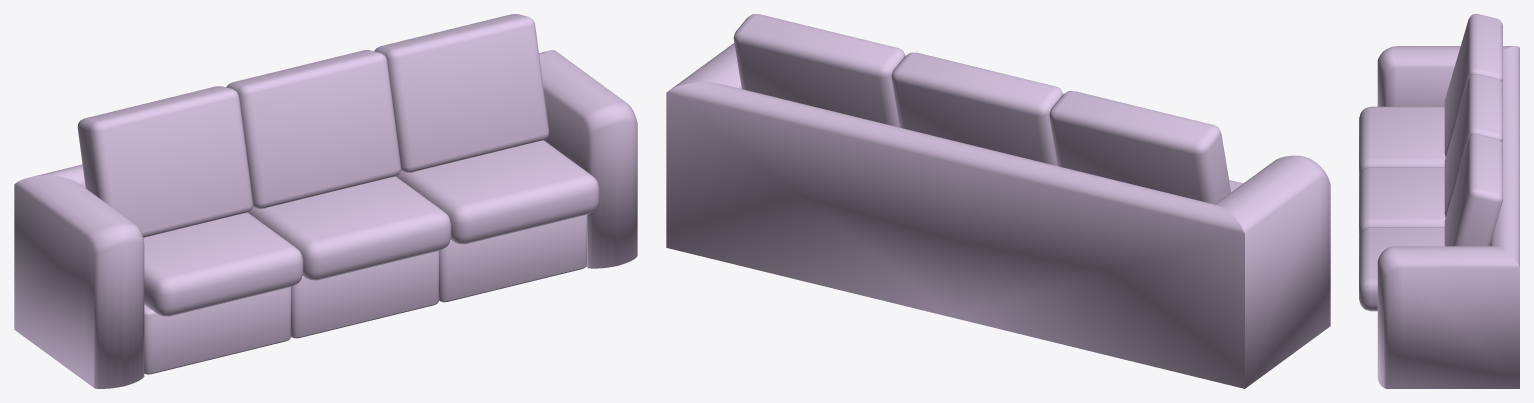
The model's file is sofa2.glb.
The picture shows the model from 3 angles, left to right: view 1: azimuth 30°, elevation 25°; view 2: azimuth 150°, elevation 25°; view 3: azimuth 270°, elevation 25°; orthographic projection. The views are drawn at different scales.
Visible parts, largest first — view 1: Sofa base, top center, top right, top left, middle right, middle center, middle left, Bottom left, Bottom right, Bottom center; view 2: Sofa base, top left, top center, top right; view 3: Sofa base, middle left, middle center, top right, top center, top left, middle right.
Part boxes in pixels (left/top/right/bottom): Sofa base: left=14, top=50, right=637, bottom=388; top center: left=226, top=50, right=401, bottom=208; top right: left=374, top=14, right=549, bottom=172; top left: left=77, top=86, right=253, bottom=237; middle right: left=396, top=140, right=599, bottom=244; middle center: left=248, top=176, right=451, bottom=280; middle left: left=143, top=212, right=303, bottom=316; Bottom left: left=144, top=287, right=290, bottom=374; Bottom right: left=439, top=215, right=586, bottom=302; Bottom center: left=291, top=251, right=438, bottom=338; Sofa base: left=666, top=43, right=1330, bottom=388; top left: left=1049, top=91, right=1230, bottom=204; top center: left=891, top=52, right=1063, bottom=165; top right: left=733, top=14, right=905, bottom=127; Sofa base: left=1377, top=46, right=1519, bottom=388; middle left: left=1359, top=106, right=1445, bottom=177; middle center: left=1359, top=167, right=1445, bottom=237; top right: left=1444, top=134, right=1502, bottom=246; top center: left=1444, top=74, right=1502, bottom=217; top left: left=1444, top=14, right=1502, bottom=157; middle right: left=1359, top=227, right=1444, bottom=311.
Size of the model in its own units: 0.9963 by 0.3741 by 0.3075.
